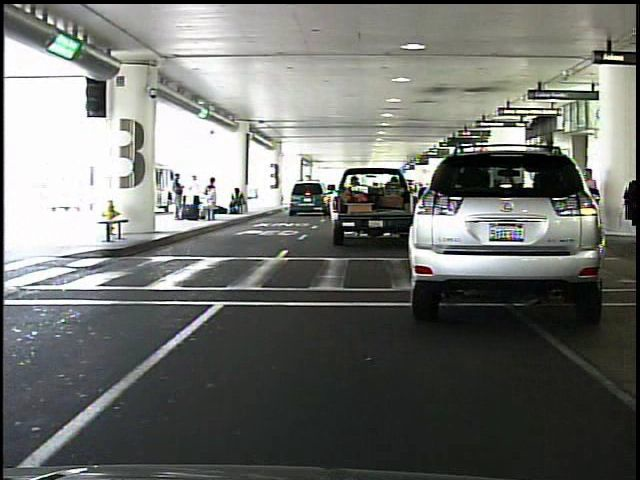person: (579, 165, 603, 239), (170, 171, 190, 224), (627, 172, 638, 241)
